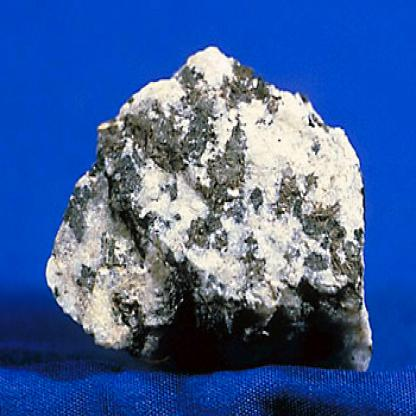Igneous_Diorite: (46, 35, 374, 375)
